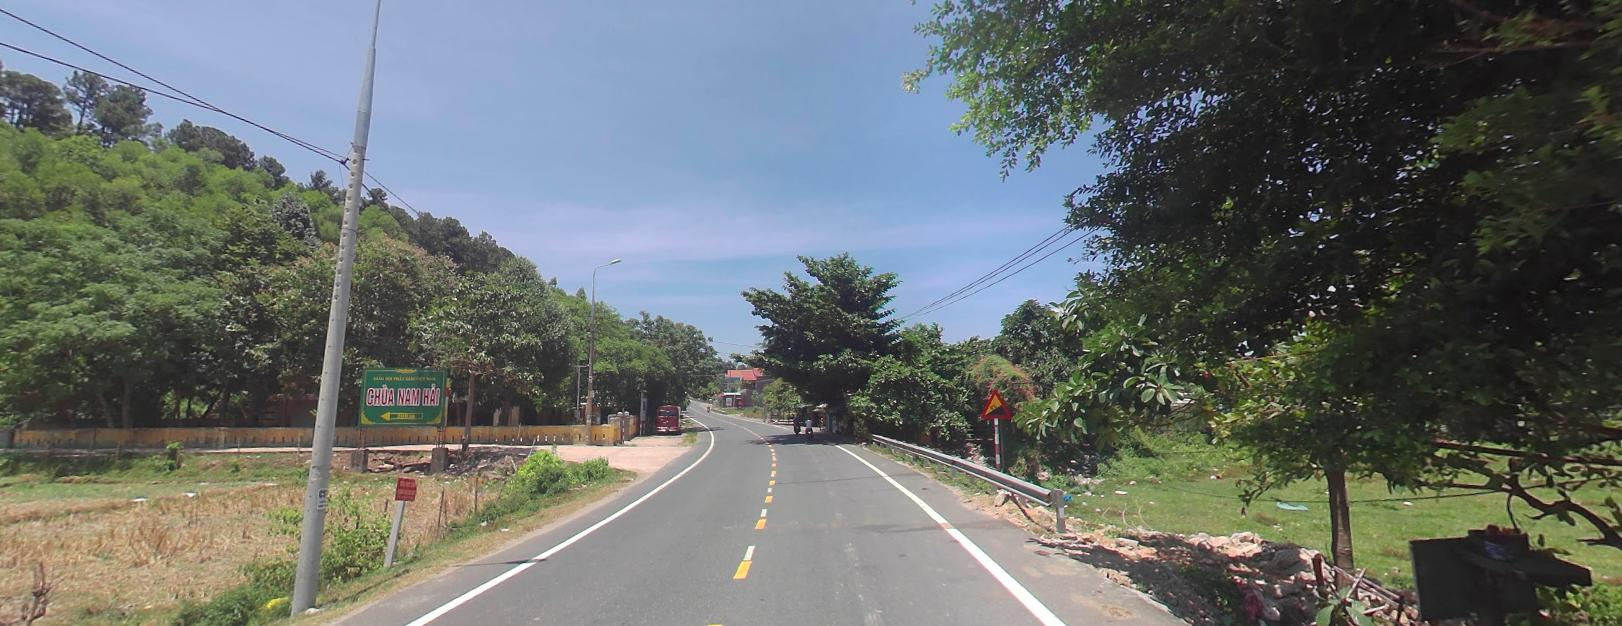Nguy hiem: (979, 387, 1012, 417), (737, 398, 742, 403)
